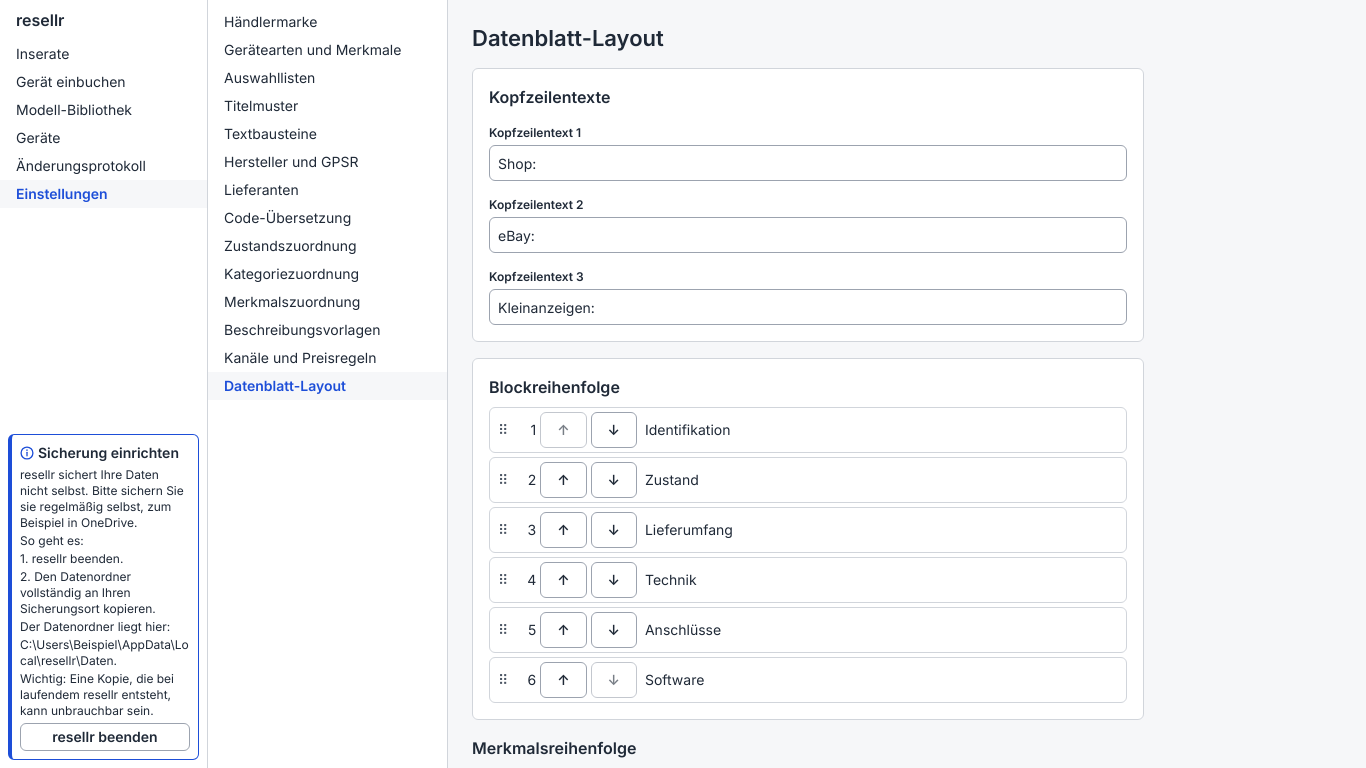
Test: UI-039 datasheet layout (CU-102) › UI-039.success DER-85-01 an attribute created in UI-027 after loading the layout does not block saving a header label (FIND-379)
The width and height of the screenshot is (1366, 768).
Replace the text in the field labelled "Kopfzeilentext 2" with "Ebay-Nr.:": (808, 235) x1=489 y1=217 x2=1127 y2=253
(page scrolled)
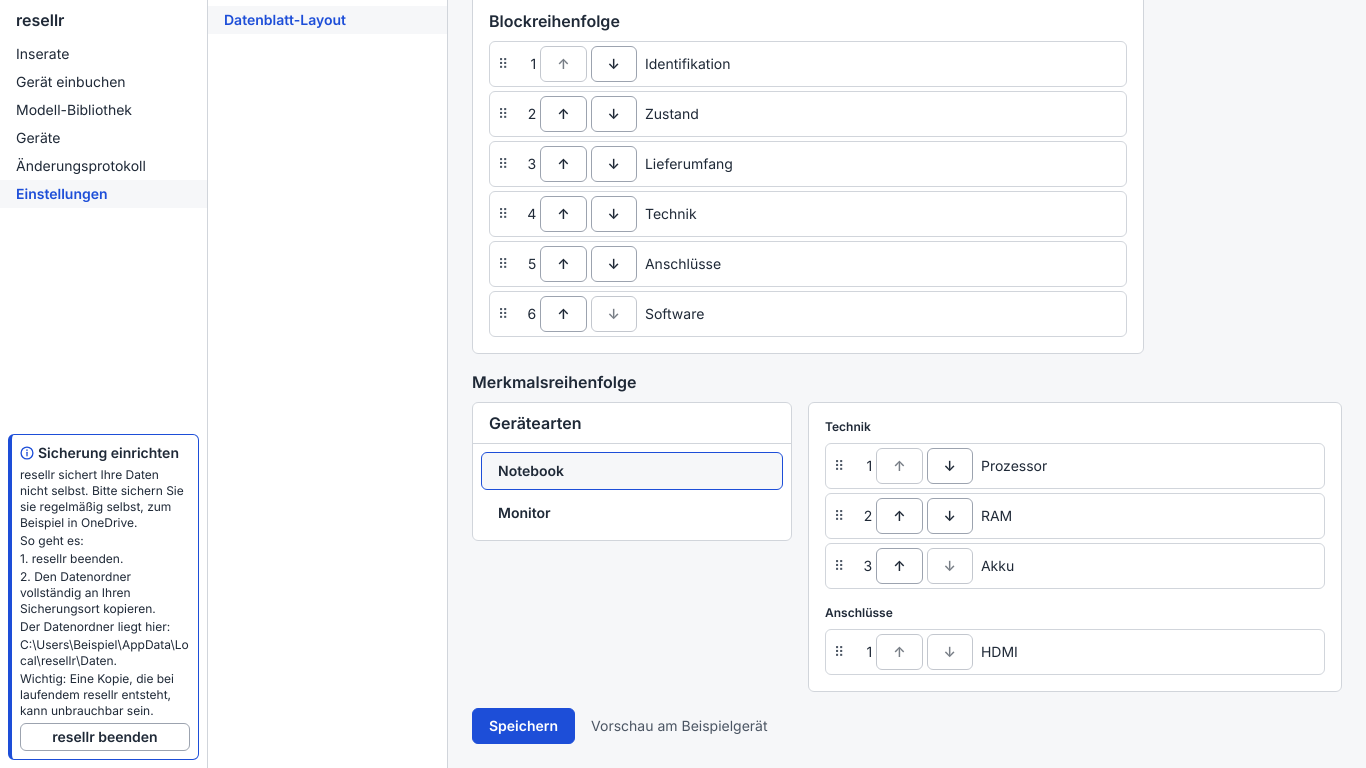
Click the button "Speichern": (524, 726) x1=472 y1=708 x2=575 y2=744
(page scrolled)
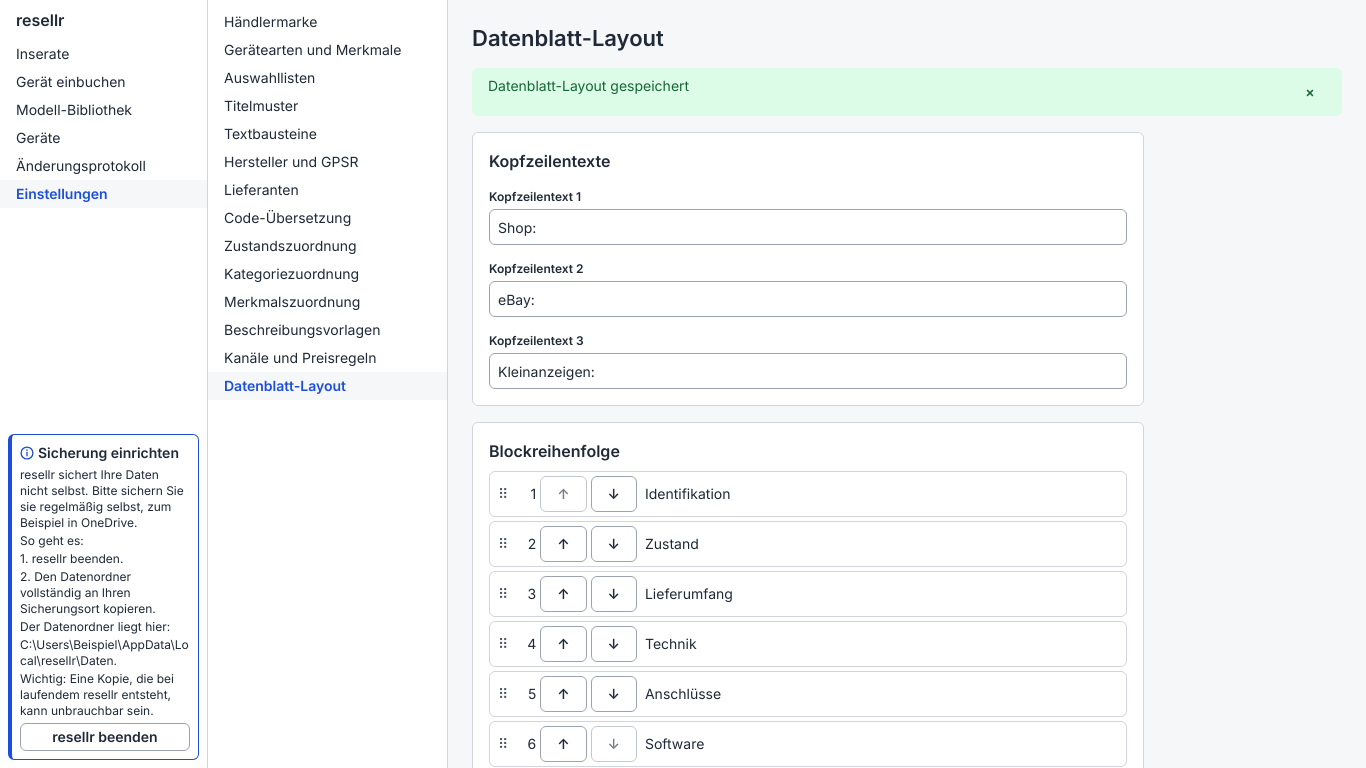
Result: the text "Datenblatt-Layout gespeichert" is shown at x1=488 y1=77 x2=689 y2=94
Result: the heading "Datenblatt-Layout" is shown at x1=472 y1=25 x2=664 y2=51
